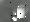person: (19, 6, 29, 18), (12, 13, 18, 21)
